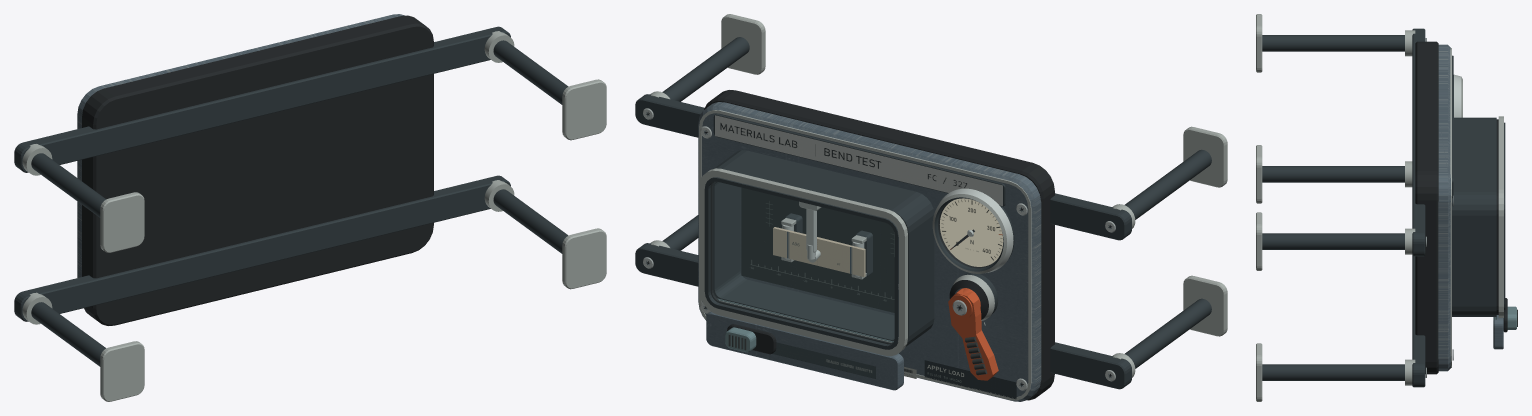
Rendered from FractureCartridge.glb.
3 views of the same model, side by side, from view 1: azimuth 30°, elevation 25°; view 2: azimuth 150°, elevation 25°; view 3: azimuth 270°, elevation 25° (orthographic). The views are drawn at different scales.
Visible parts, largest first — view 1: fracture_frame; view 2: fracture_frame, fracture_markings, fracture_press, fracture_shard_05, fracture_coupon, fracture_shard_01, fracture_reload, fracture_punch; view 3: fracture_frame, fracture_reload.
Boxes of the visible parts, left/top/right/bottom form: fracture_frame: left=14, top=14, right=606, bottom=401; fracture_frame: left=635, top=14, right=1227, bottom=401; fracture_markings: left=715, top=115, right=1016, bottom=399; fracture_press: left=948, top=288, right=998, bottom=380; fracture_shard_05: left=823, top=241, right=865, bottom=276; fracture_coupon: left=773, top=227, right=865, bottom=276; fracture_shard_01: left=774, top=227, right=808, bottom=262; fracture_reload: left=725, top=327, right=756, bottom=352; fracture_punch: left=806, top=209, right=820, bottom=262; fracture_frame: left=1256, top=14, right=1507, bottom=401; fracture_reload: left=1507, top=306, right=1517, bottom=329.
Size of the model in its own units: 0.744 by 0.323 by 0.3806.
Materials: 16 (3 with a texture image).
